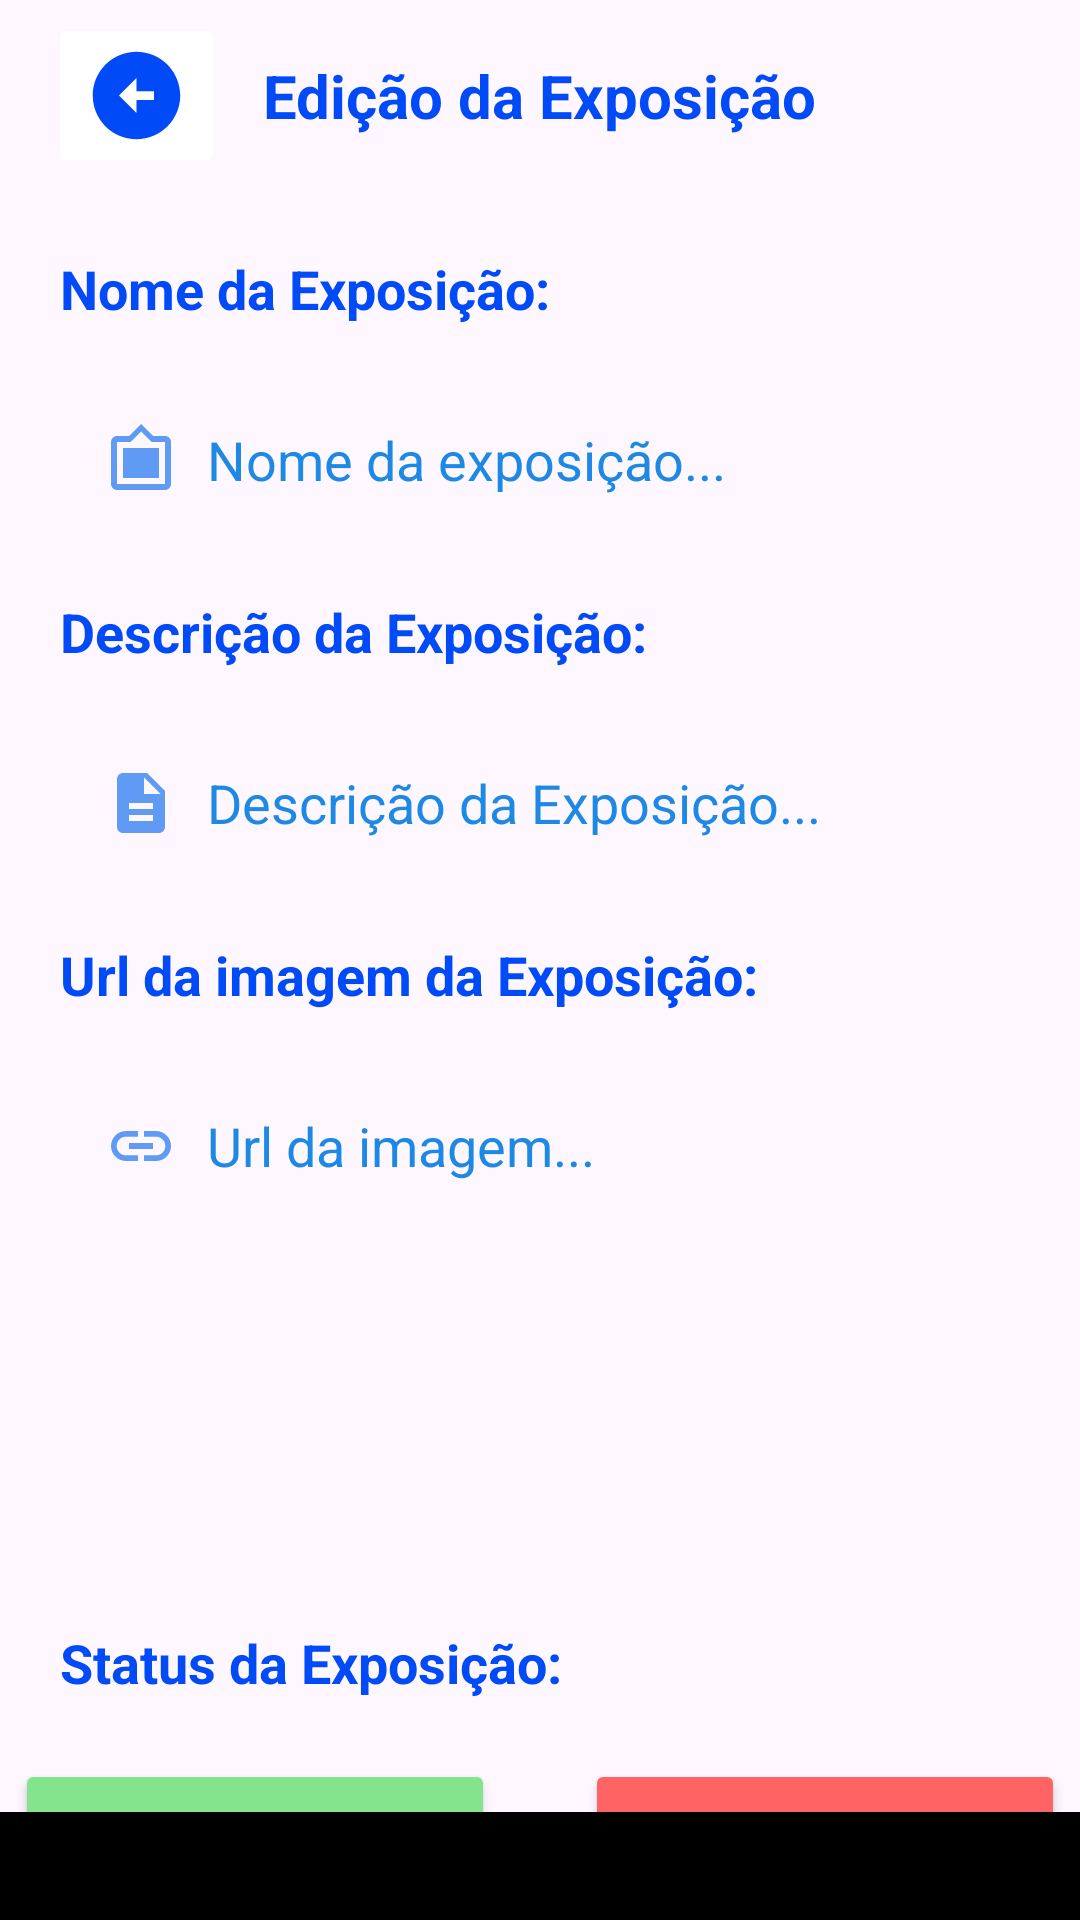

Locate icon controls on the screen. Image size 1080px×1920px, boxes as bbox=(x1, y1, x2, y2).
arrow circle left: bbox=(92, 51, 181, 140)
